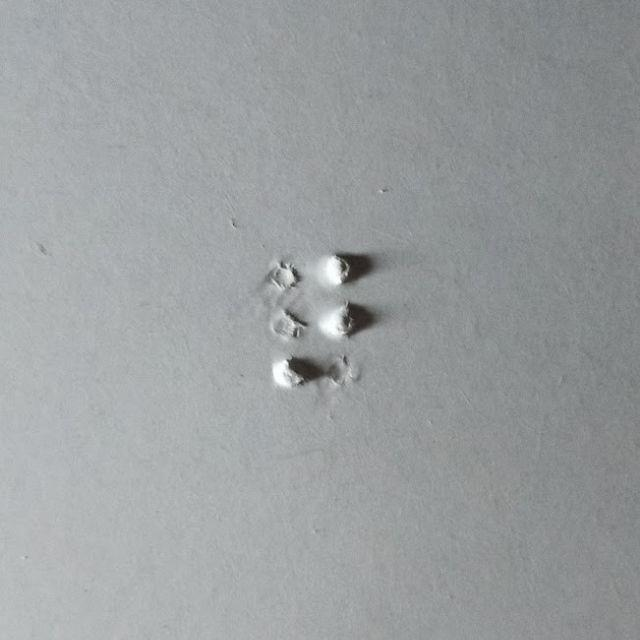araw: (272, 251, 375, 388)
